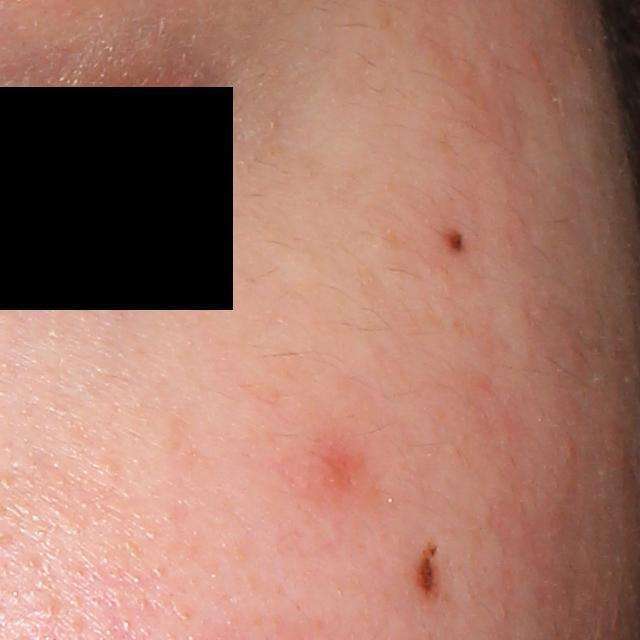nevus: (414, 540, 441, 595), (443, 228, 467, 253)
